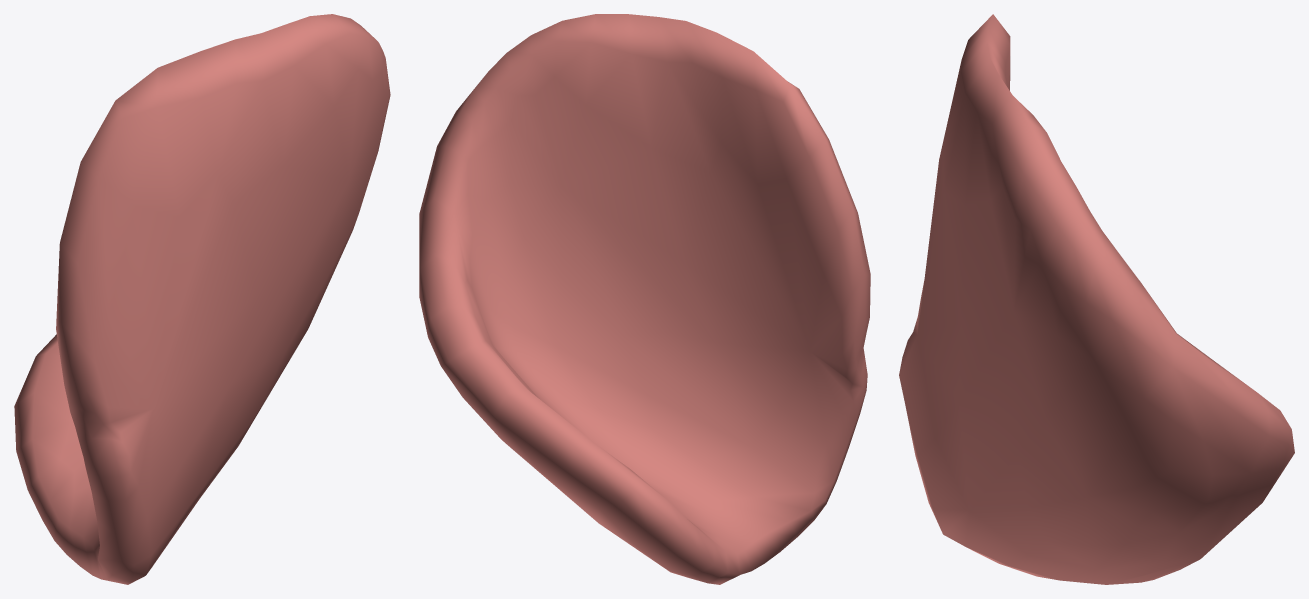
3 views of the same model, side by side, from view 1: azimuth 30°, elevation 25°; view 2: azimuth 150°, elevation 25°; view 3: azimuth 270°, elevation 25° (orthographic). The views are drawn at different scales.
Visible parts, largest first — view 1: ZA_1daa8f20c70d89a4; view 2: ZA_1daa8f20c70d89a4; view 3: ZA_1daa8f20c70d89a4.
Part boxes in pixels (x1,y1,x2,y2): ZA_1daa8f20c70d89a4: (14, 14, 390, 584); ZA_1daa8f20c70d89a4: (419, 14, 870, 584); ZA_1daa8f20c70d89a4: (899, 14, 1294, 584).
Bounding box in the file's own units: 0.00373 × 0.00484 × 0.00293.
